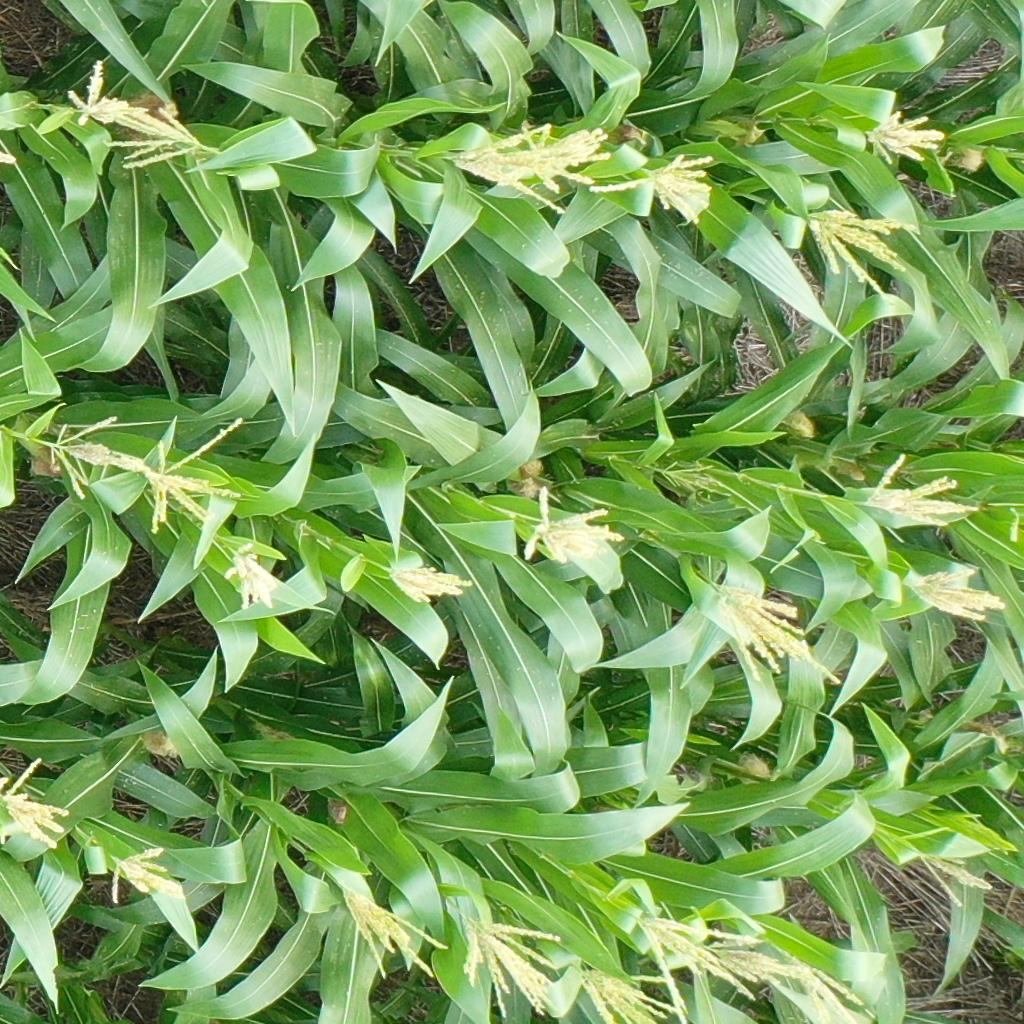Tassel: (710, 580, 850, 690), (636, 912, 762, 1024), (134, 418, 245, 537), (444, 123, 570, 216), (461, 915, 563, 1021), (336, 885, 452, 978), (804, 208, 918, 301), (592, 151, 716, 226), (43, 415, 143, 502), (861, 455, 980, 528), (522, 485, 624, 569), (502, 120, 611, 191), (103, 104, 222, 167), (899, 564, 1009, 624), (1, 757, 70, 851), (782, 952, 866, 1024), (577, 965, 679, 1024), (708, 933, 810, 985), (65, 60, 145, 126), (107, 844, 189, 907), (864, 109, 949, 166), (223, 542, 287, 613), (917, 852, 994, 908), (385, 561, 473, 606), (661, 456, 731, 500)
